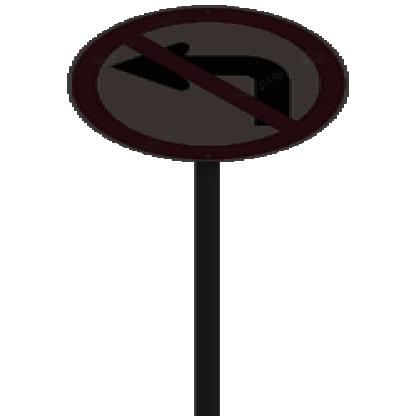No left turn: (48, 5, 363, 166)
